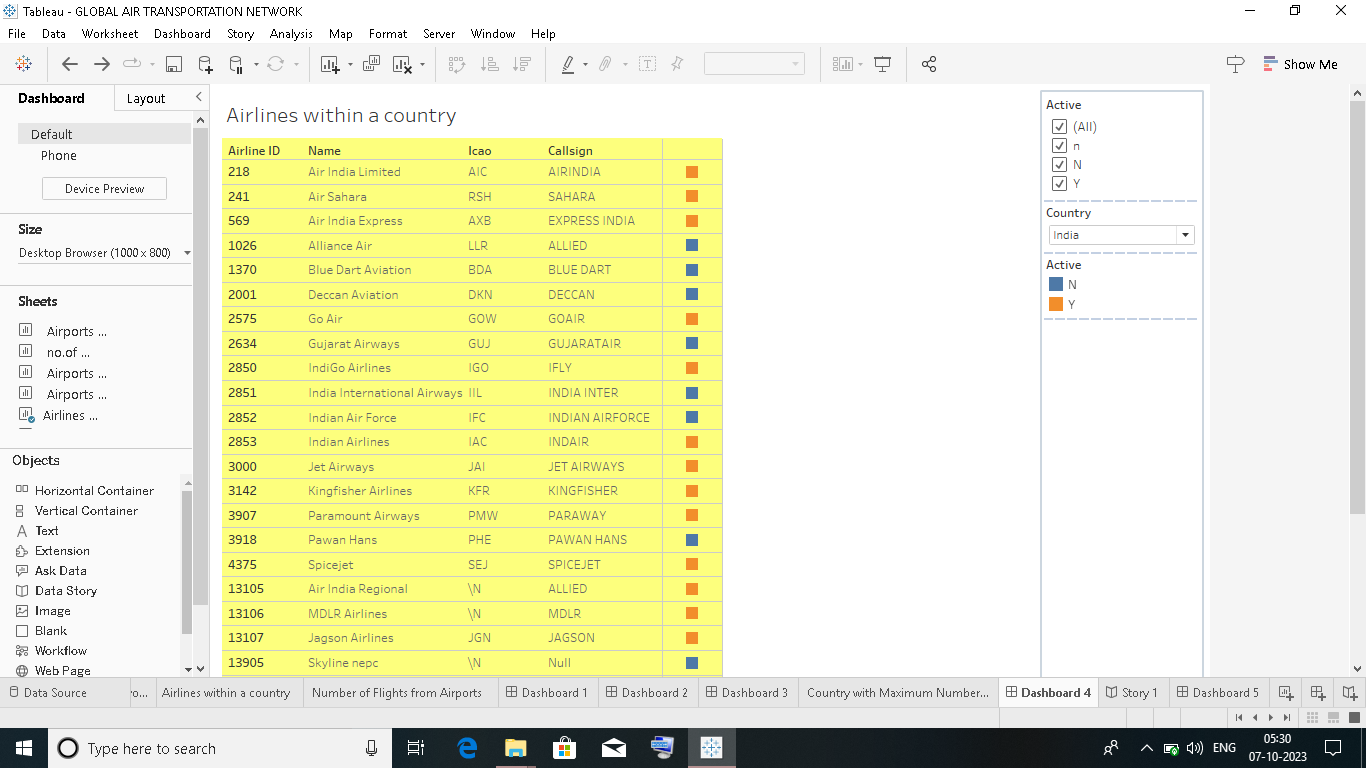

This screenshot's page, from the dashboard's own definition file:
{"tool":"tableau","page":{"name":"Dashboard 4","canvas":[1000,800],"ordinal":3},"visuals":[{"type":"worksheet","title":"Airlines within a country","mark":"Automatic","rows":["Airline ID","Name","ICAO","Callsign"],"box":[8,8,824,784]},{"type":"filter","title":"Airlines within a country","param":"[federated.10ei6qe0yz0oh80zsnboy1ecpc5a].[none:Active:nk]","box":[832,8,160,108]},{"type":"filter","title":"Airlines within a country","param":"[federated.10ei6qe0yz0oh80zsnboy1ecpc5a].[none:Country:nk]","box":[832,116,160,52]},{"type":"legend","title":"Airlines within a country","param":"[federated.10ei6qe0yz0oh80zsnboy1ecpc5a].[none:Active:nk]","box":[832,168,160,66]}]}

Visuals, with their boxes on the page's 1000x800 design canvas (x1, y1, x2, y2). These are canvas units, not pixel positions in the 1366x768 screenshot, which may show the page scaled, cropped or inside an application window:
"Airlines within a country" worksheet: detection(8, 8, 832, 792)
"Airlines within a country" filter: detection(832, 8, 992, 116)
"Airlines within a country" filter: detection(832, 116, 992, 168)
"Airlines within a country" legend: detection(832, 168, 992, 234)
